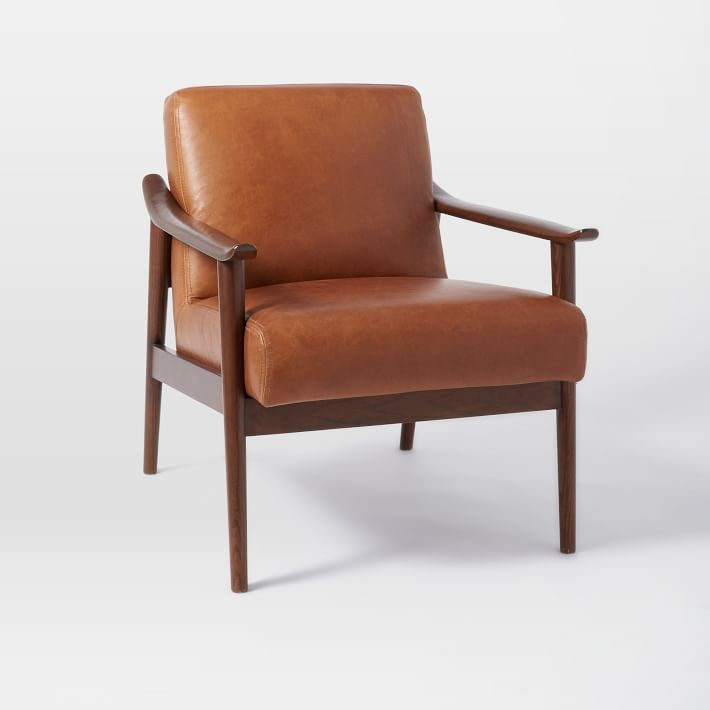chairs: (131, 77, 601, 601)
